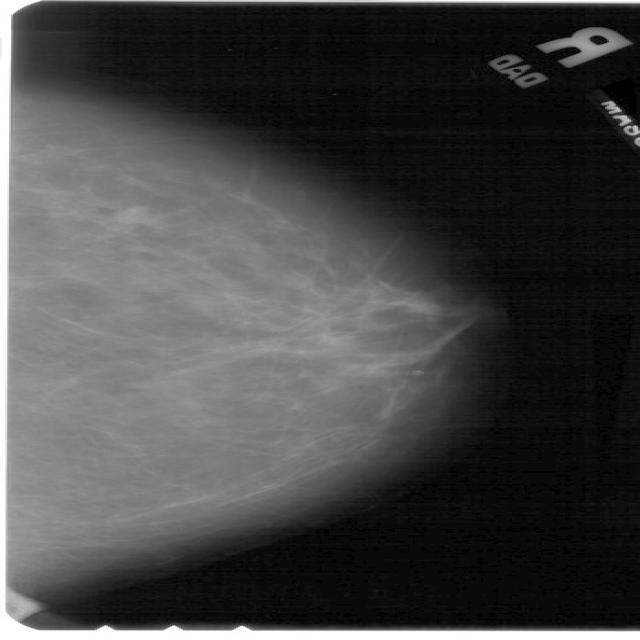tumour: (114, 204, 154, 227)
